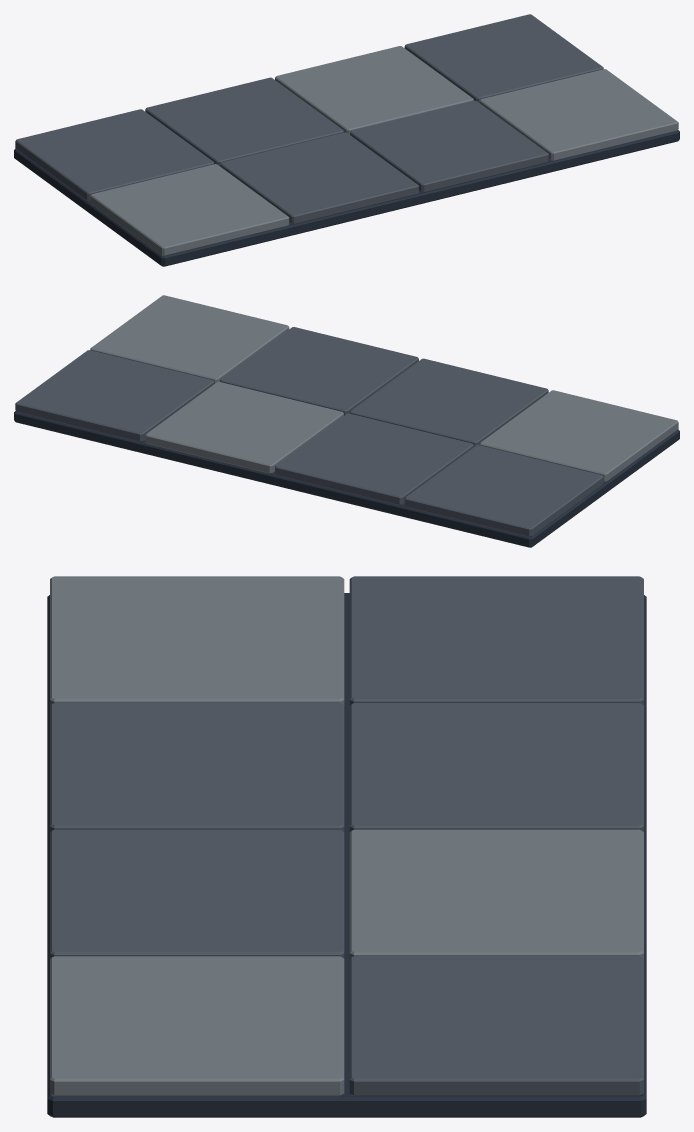
File: floor-large.glb
The picture shows the model from 3 angles, top to bottom: view 1: azimuth 30°, elevation 25°; view 2: azimuth 150°, elevation 25°; view 3: azimuth 270°, elevation 25°; orthographic projection. The views are drawn at different scales.
Visible parts, largest first — view 1: floor-large__body; view 2: floor-large__body; view 3: floor-large__body.
Part boxes in pixels (x1,y1,x2,y2): floor-large__body: [14, 14, 679, 266]; floor-large__body: [14, 295, 679, 547]; floor-large__body: [47, 576, 646, 1117].
Size of the model in its own units: 4 by 0.14 by 2.
